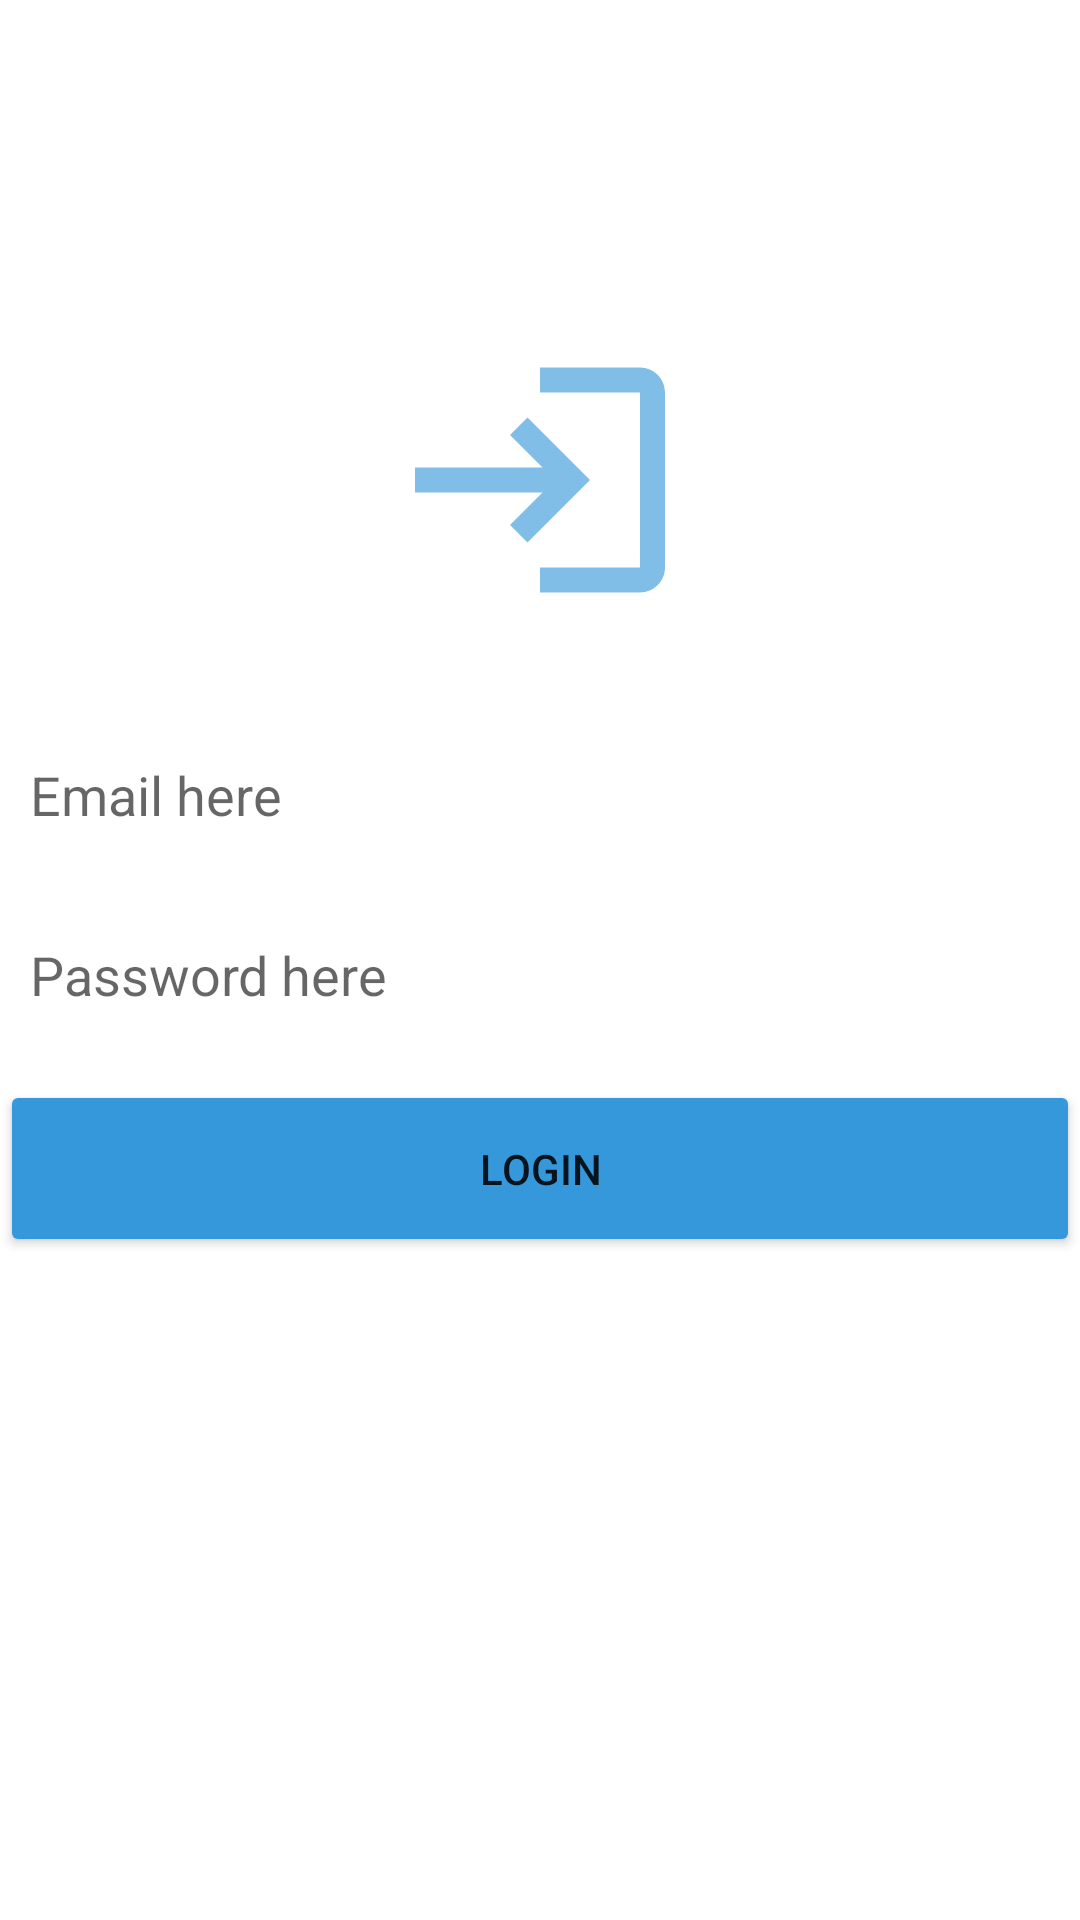

Icon click points for this 1080 × 1920 phone screenshot, format [x,y]:
login: [540,480]
